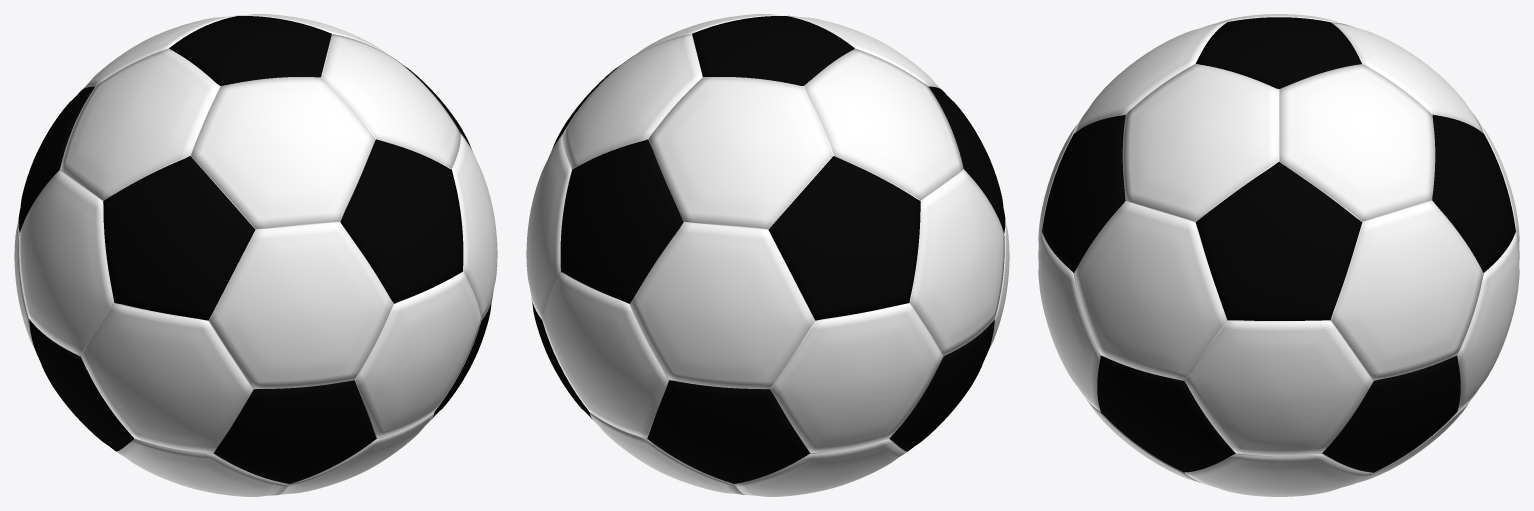
The model's file is Soccer Ball.fbx.
3 views of the same model, side by side, from view 1: azimuth 30°, elevation 25°; view 2: azimuth 150°, elevation 25°; view 3: azimuth 270°, elevation 25° (orthographic).
Parts seen in each view (by area): view 1: Soccer Ball; view 2: Soccer Ball; view 3: Soccer Ball.
Boxes of the visible parts, bbox=[...] form: Soccer Ball: bbox=[14, 14, 497, 496]; Soccer Ball: bbox=[526, 14, 1009, 496]; Soccer Ball: bbox=[1038, 14, 1519, 496].
Bounding box in the file's own units: 23.86 × 23.95 × 23.76.
Materials: 1 (1 with a texture image).
